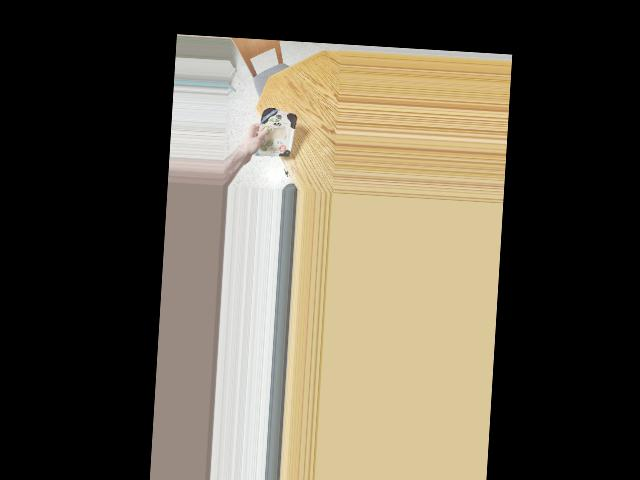cheese: (254, 105, 293, 164)
